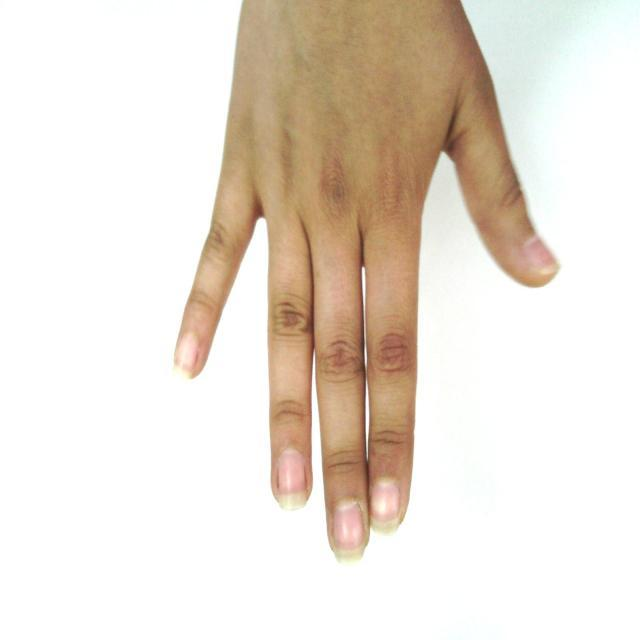Fingernail: (333, 500, 365, 563), (278, 451, 307, 509), (371, 479, 399, 534), (523, 238, 557, 271), (175, 334, 198, 377)
